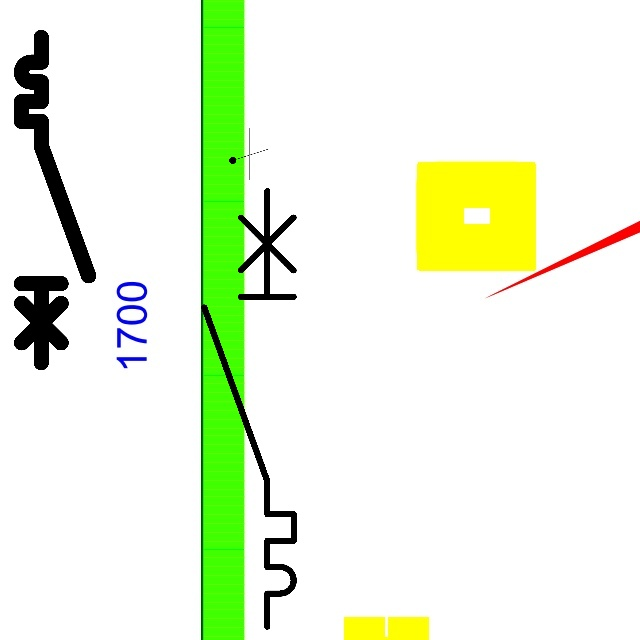interruptor_termomagnetico: (193, 179, 305, 637), (13, 29, 97, 371)
